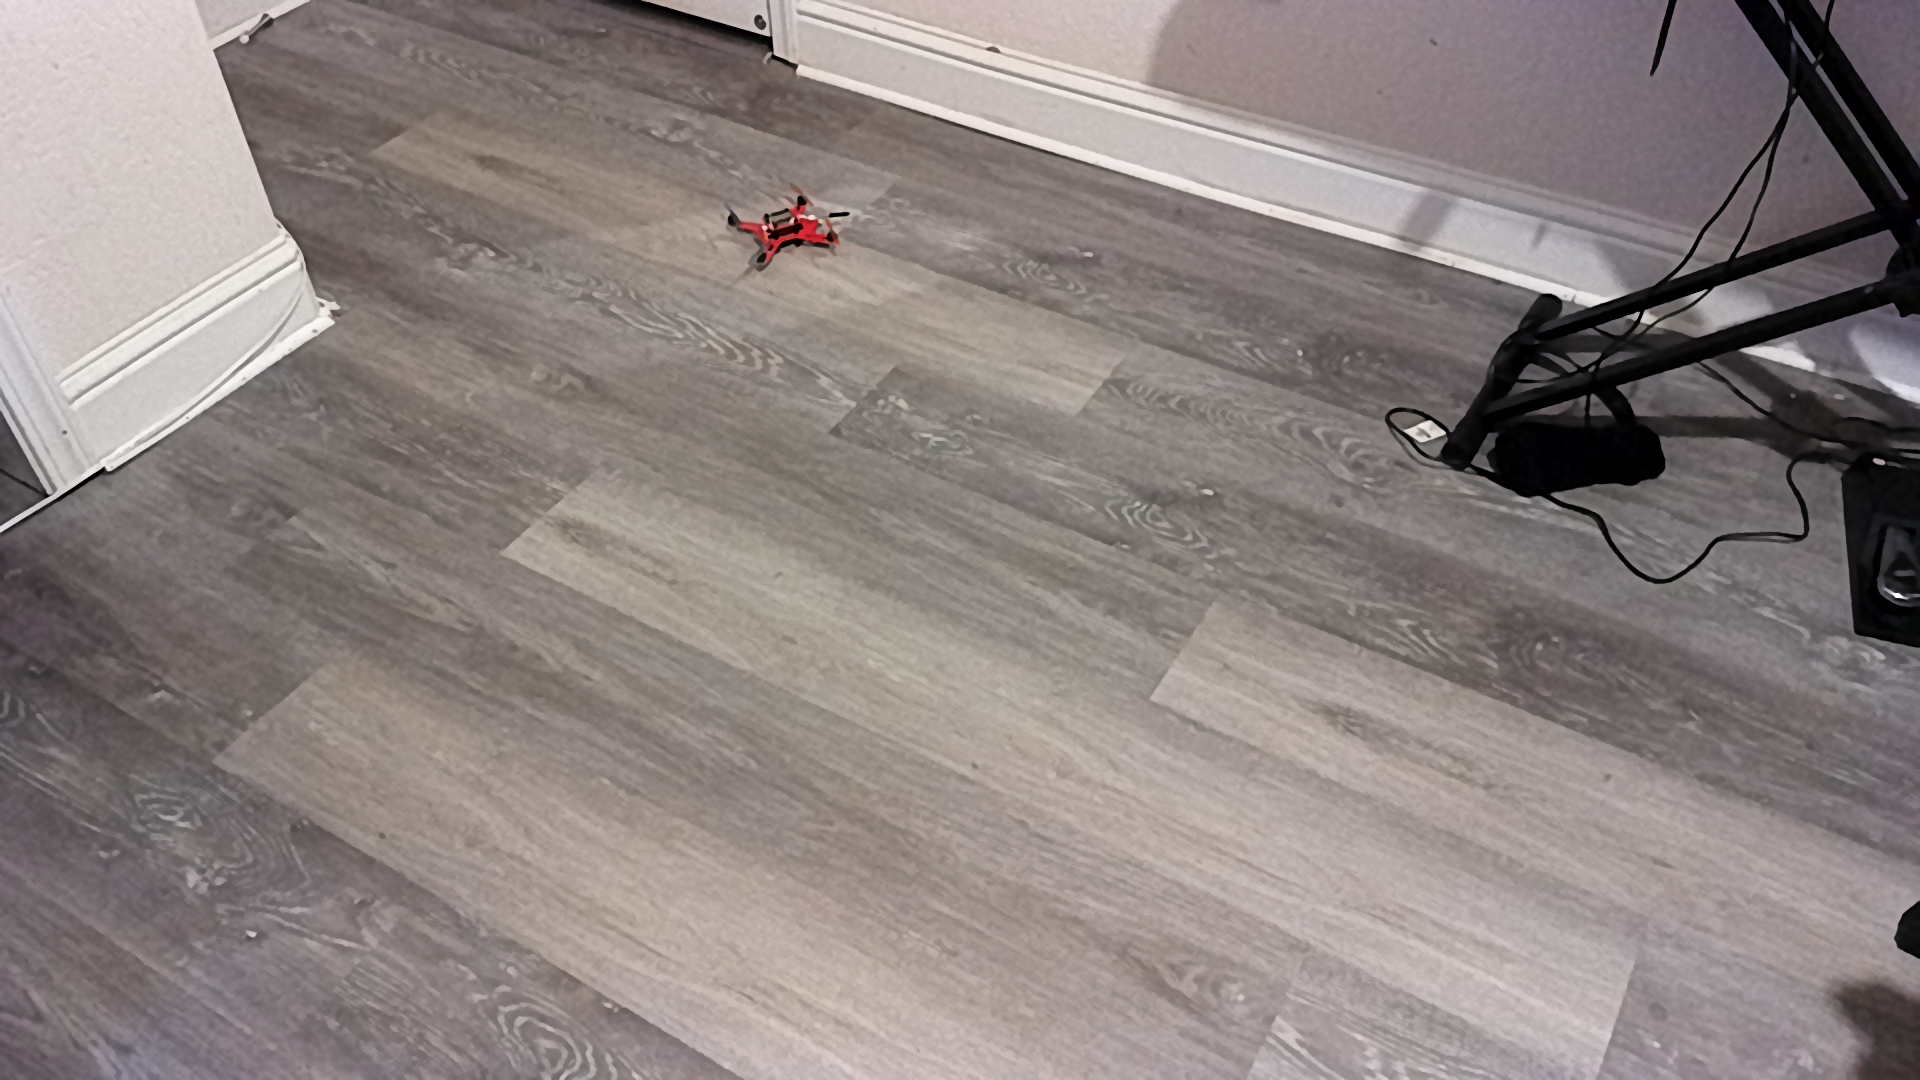drone: (707, 179, 866, 274)
